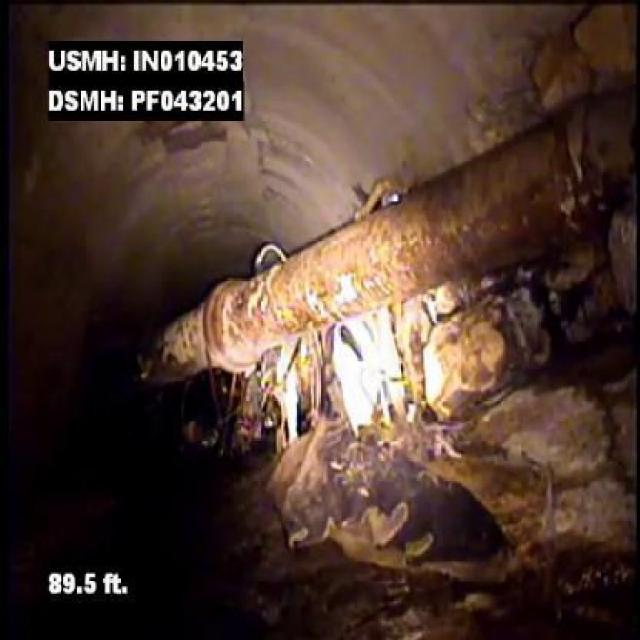Obstacle: (270, 384, 638, 638)
Utility intrusion: (140, 83, 635, 385)
